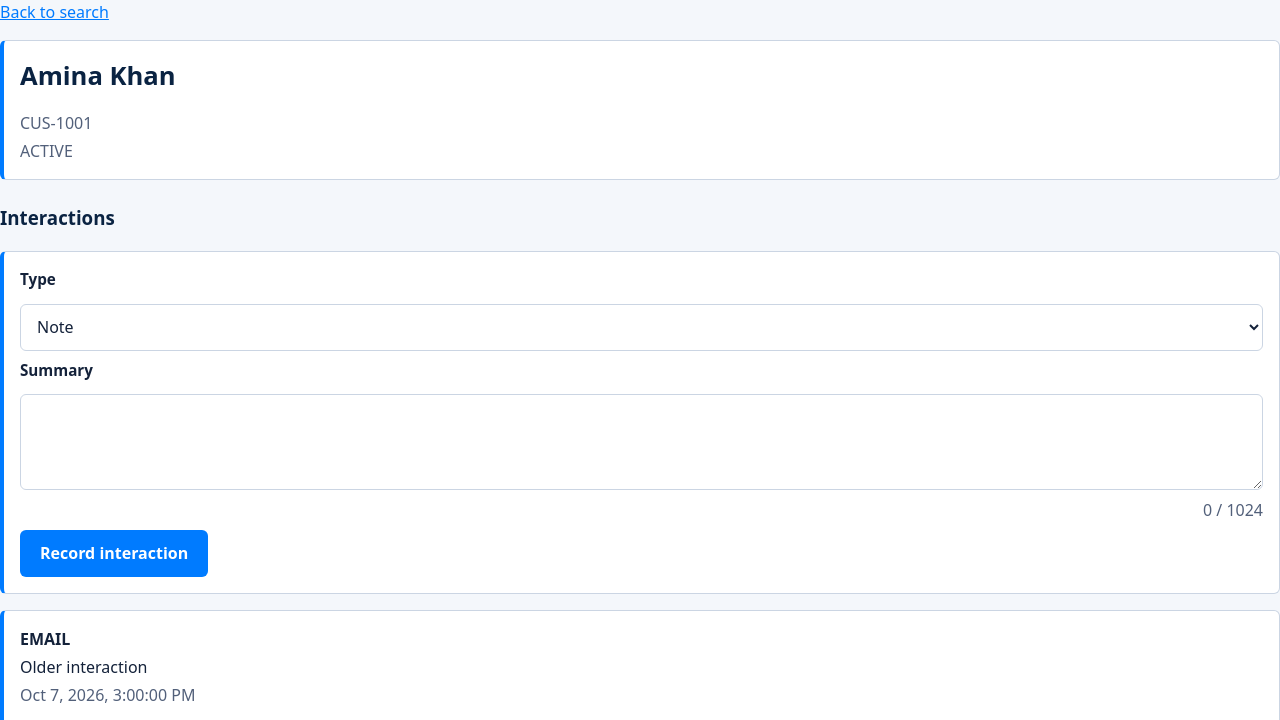
it: CustomerProfilePageComponent › refetches interactions after a save and renders the saved interaction first
Type "New interaction" into the text box with test id "interaction-summary". click: (642, 442)
box: [20,394,1263,490]
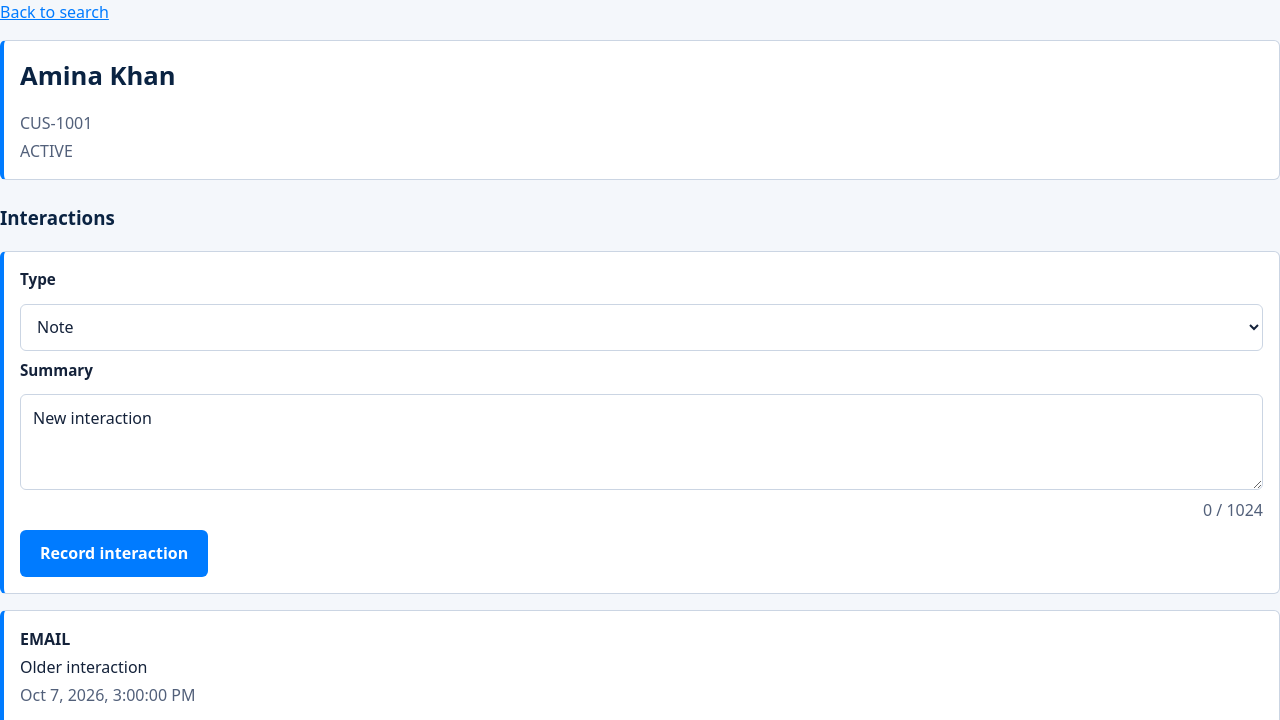
Submit the form with test id "interaction-form", box [0,251,1279,594]
(page scrolled)
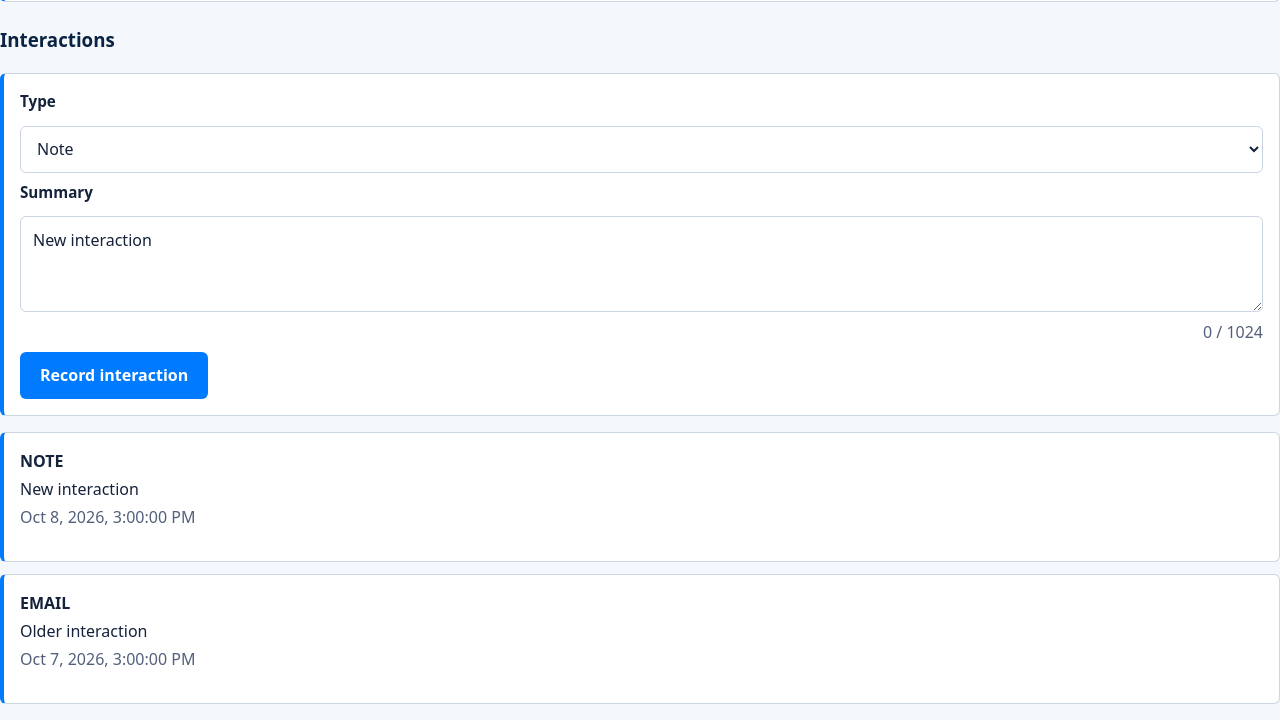
Expected: the list item with test id "interaction-timeline-item" shows "Older interaction", [20,620,148,642]
Expected: the number of list items with test id "interaction-timeline-item" is 2, [0,432,1279,562]; [0,574,1279,704]
Expected: the list item with test id "interaction-timeline-item" shows "New interaction", [20,478,139,500]
